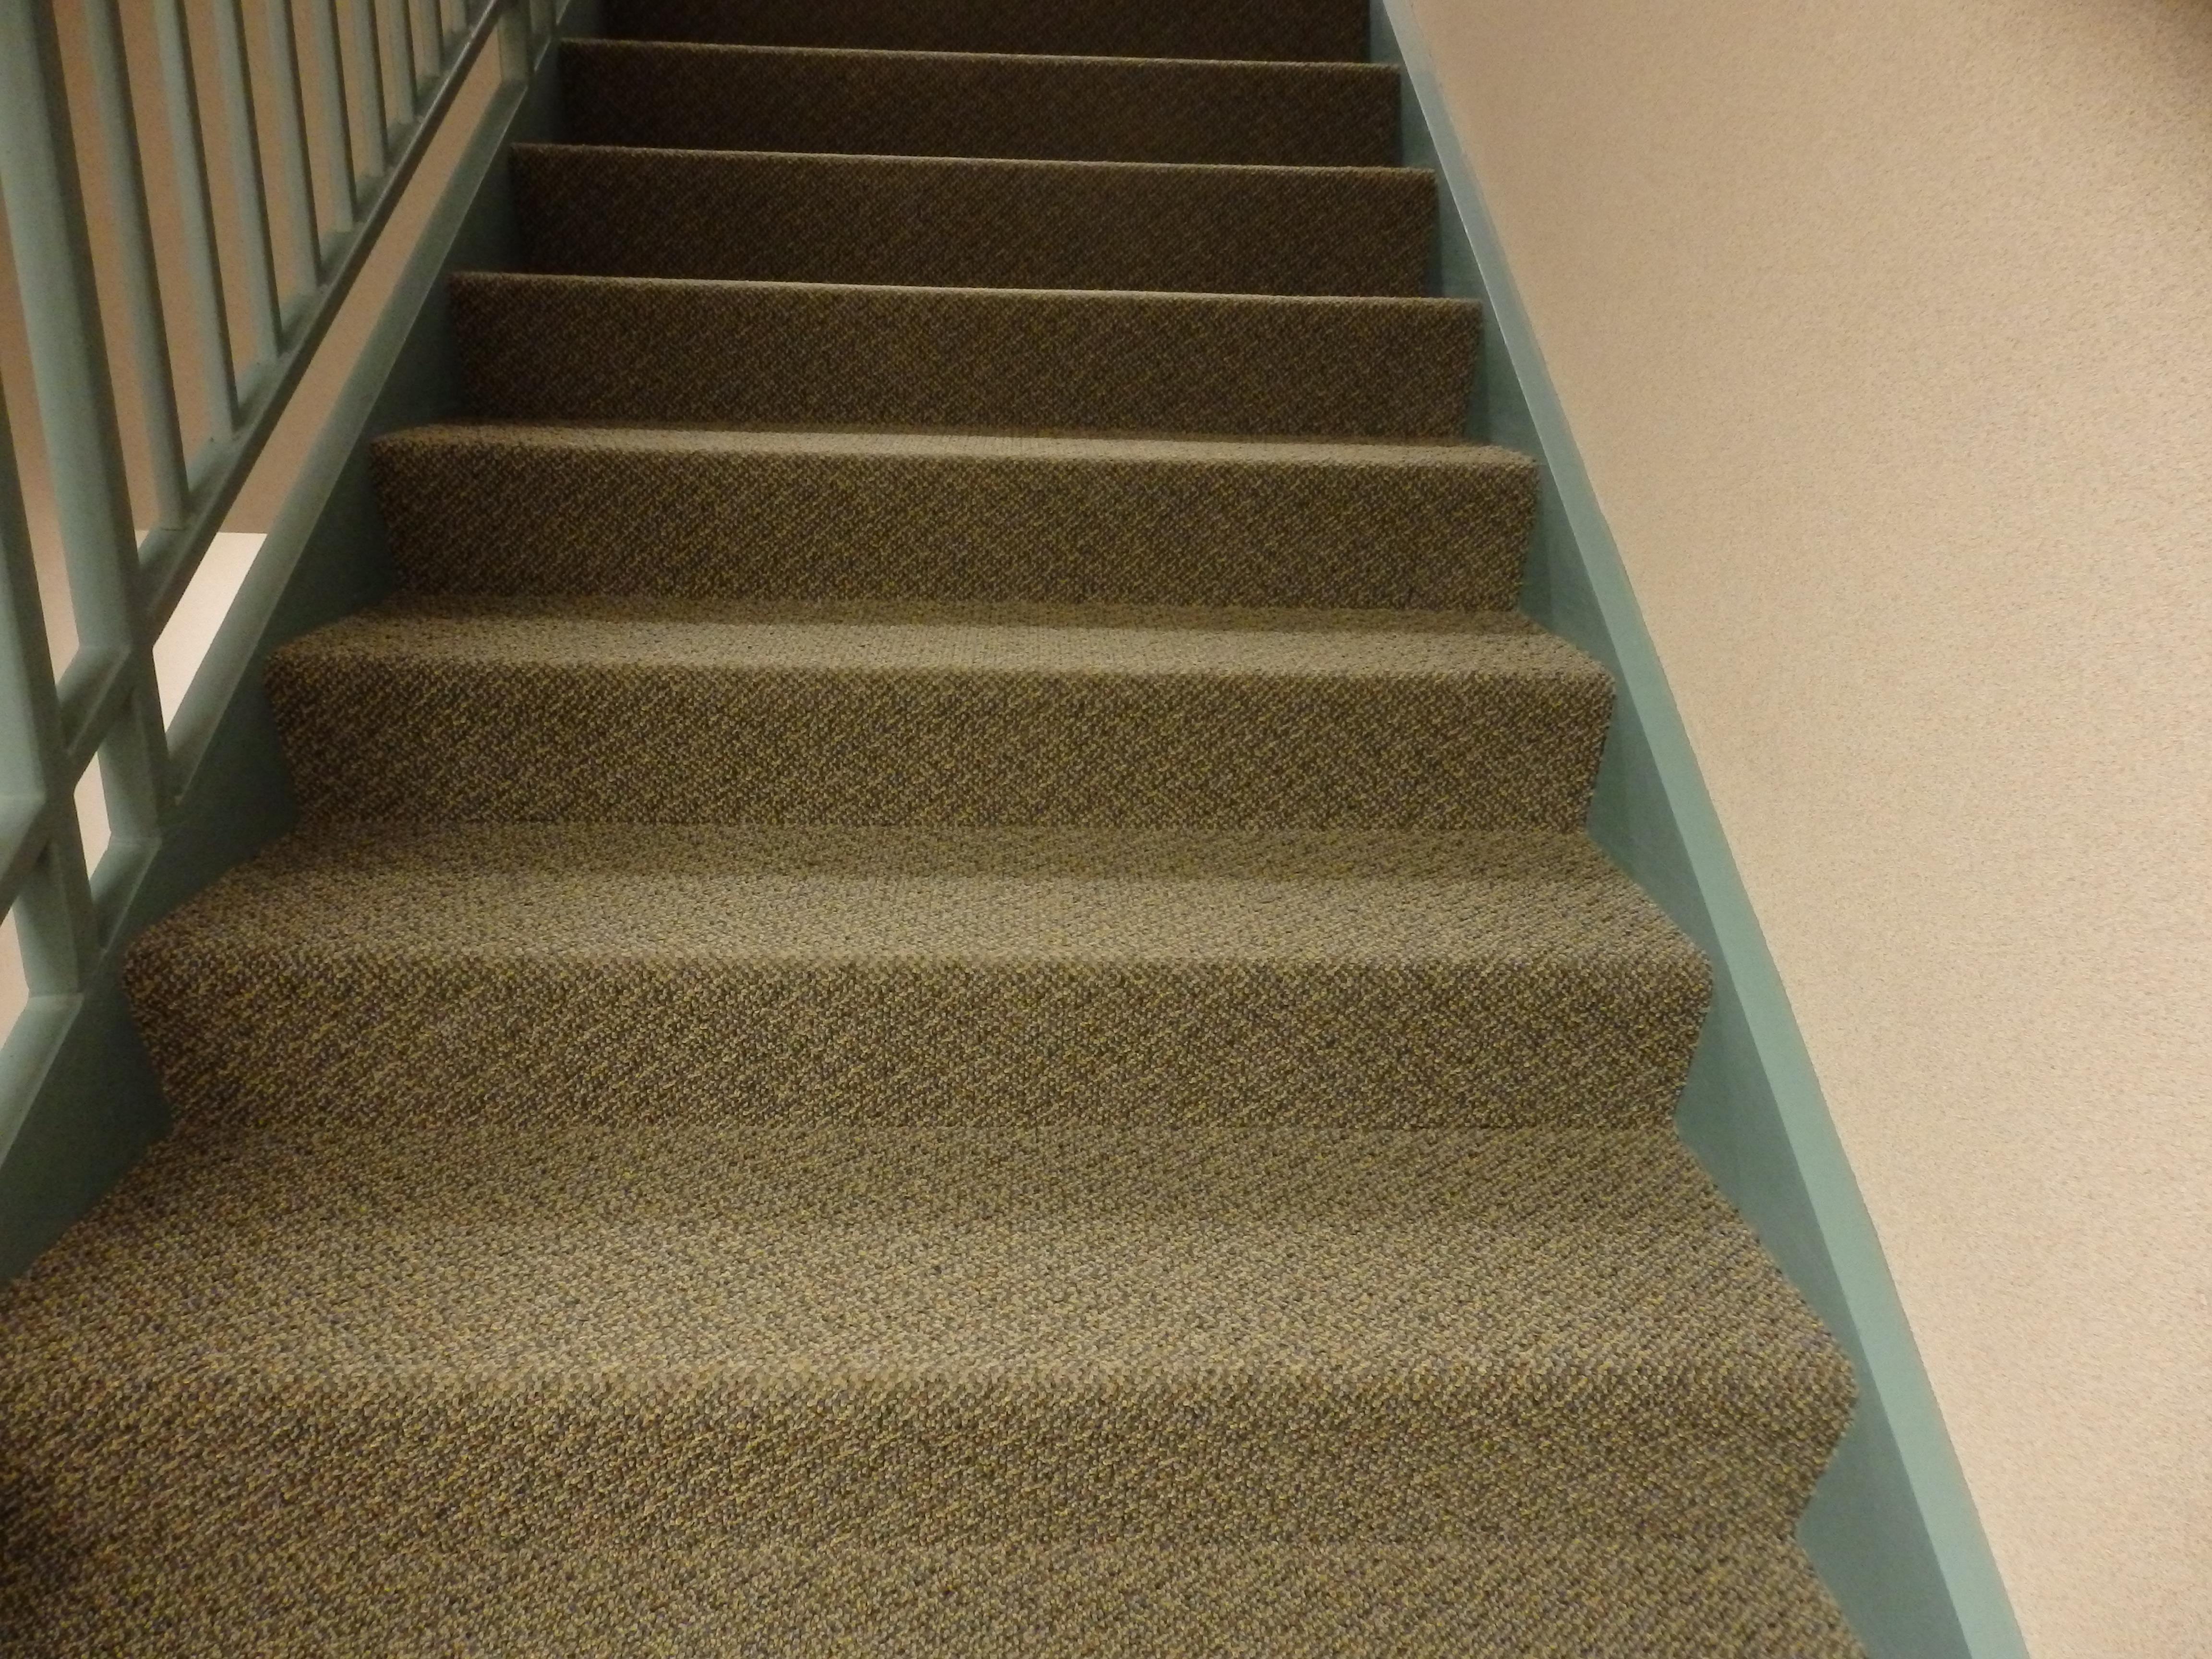stairs_up: (145, 40, 1648, 1659)
